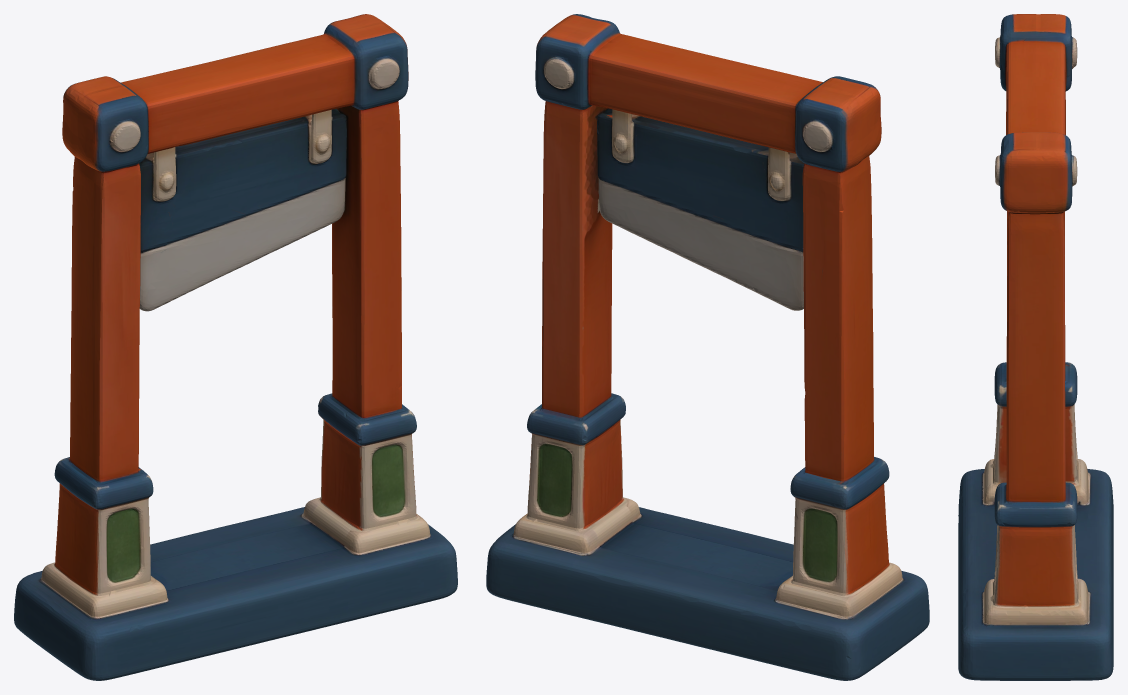
File: oracolo.glb
3 renders of one model, left to right at view 1: azimuth 30°, elevation 25°; view 2: azimuth 150°, elevation 25°; view 3: azimuth 270°, elevation 25°, orthographic. The views are drawn at different scales.
Visible parts, largest first — view 1: textured_mesh.obj; view 2: textured_mesh.obj; view 3: textured_mesh.obj.
Part boxes in pixels (x1=…): textured_mesh.obj: x1=14, y1=14, x2=457, y2=680; textured_mesh.obj: x1=486, y1=14, x2=929, y2=680; textured_mesh.obj: x1=958, y1=14, x2=1113, y2=680.
Size of the model in its own units: 1.41 by 1.99 by 0.5407.
1 material, 1 textured.
